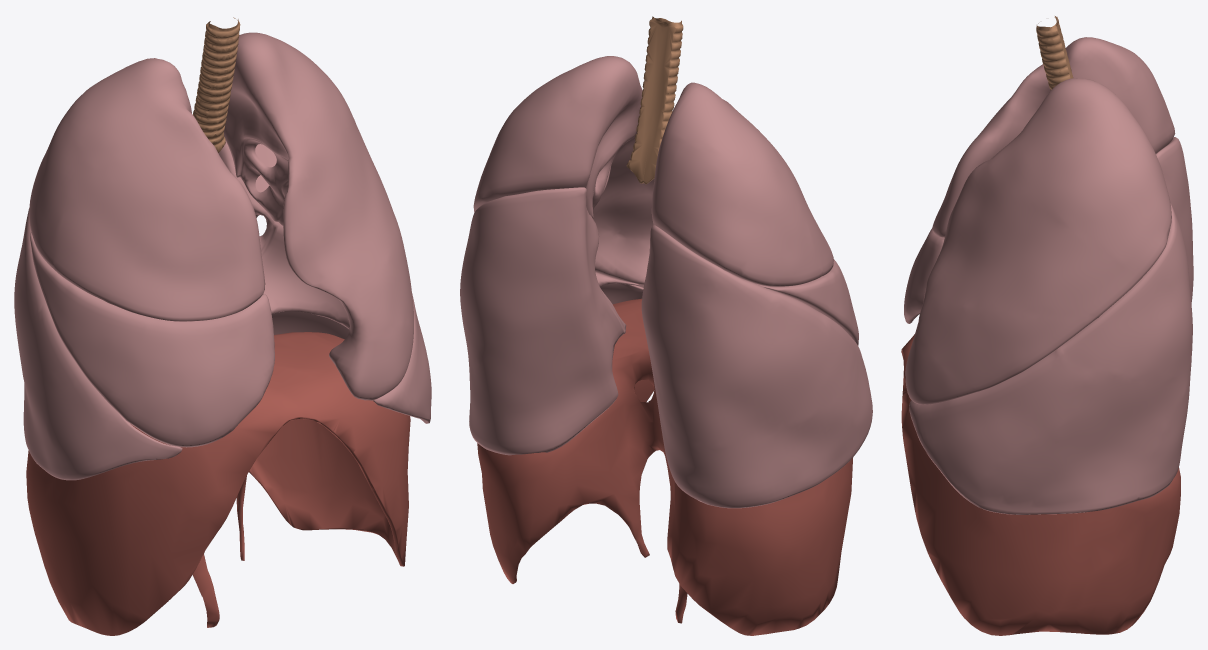
File: respiratory-system.glb
The picture shows the model from 3 angles, left to right: view 1: azimuth 30°, elevation 25°; view 2: azimuth 150°, elevation 25°; view 3: azimuth 270°, elevation 25°; orthographic projection. The views are drawn at different scales.
Visible parts, largest first — view 1: diaphragm, real-lungs-superior-lobe-of-right-lung, real-lungs-superior-lobe-of-left-lung, real-lungs-middle-lobe-of-right-lung, real-lungs-inferior-lobe-of-right-lung, real-lungs-inferior-lobe-of-left-lung, trachea; view 2: real-lungs-inferior-lobe-of-right-lung, diaphragm, real-lungs-inferior-lobe-of-left-lung, real-lungs-superior-lobe-of-right-lung, real-lungs-superior-lobe-of-left-lung, trachea, real-lungs-middle-lobe-of-right-lung; view 3: real-lungs-superior-lobe-of-left-lung, real-lungs-inferior-lobe-of-left-lung, diaphragm, real-lungs-superior-lobe-of-right-lung, real-lungs-inferior-lobe-of-right-lung, real-lungs-middle-lobe-of-right-lung, trachea.
Boxes of the visible parts, x1,y1,x2,y2 form: diaphragm: [26, 332, 410, 635]; real-lungs-superior-lobe-of-right-lung: [29, 58, 265, 321]; real-lungs-superior-lobe-of-left-lung: [224, 32, 413, 400]; real-lungs-middle-lobe-of-right-lung: [30, 232, 274, 447]; real-lungs-inferior-lobe-of-right-lung: [14, 208, 182, 480]; real-lungs-inferior-lobe-of-left-lung: [218, 141, 431, 423]; trachea: [193, 17, 240, 152]; real-lungs-inferior-lobe-of-right-lung: [641, 225, 872, 508]; diaphragm: [477, 298, 852, 635]; real-lungs-inferior-lobe-of-left-lung: [460, 187, 643, 455]; real-lungs-superior-lobe-of-right-lung: [651, 82, 833, 286]; real-lungs-superior-lobe-of-left-lung: [473, 56, 654, 287]; trachea: [626, 16, 683, 184]; real-lungs-middle-lobe-of-right-lung: [756, 259, 858, 345]; real-lungs-superior-lobe-of-left-lung: [905, 78, 1171, 404]; real-lungs-inferior-lobe-of-left-lung: [909, 203, 1192, 514]; diaphragm: [901, 334, 1180, 635]; real-lungs-superior-lobe-of-right-lung: [932, 37, 1175, 237]; real-lungs-inferior-lobe-of-right-lung: [919, 137, 1193, 314]; real-lungs-middle-lobe-of-right-lung: [904, 228, 944, 323]; trachea: [1036, 16, 1073, 90].
Bounding box in the file's own units: 0.261 × 0.4186 × 0.1874.
